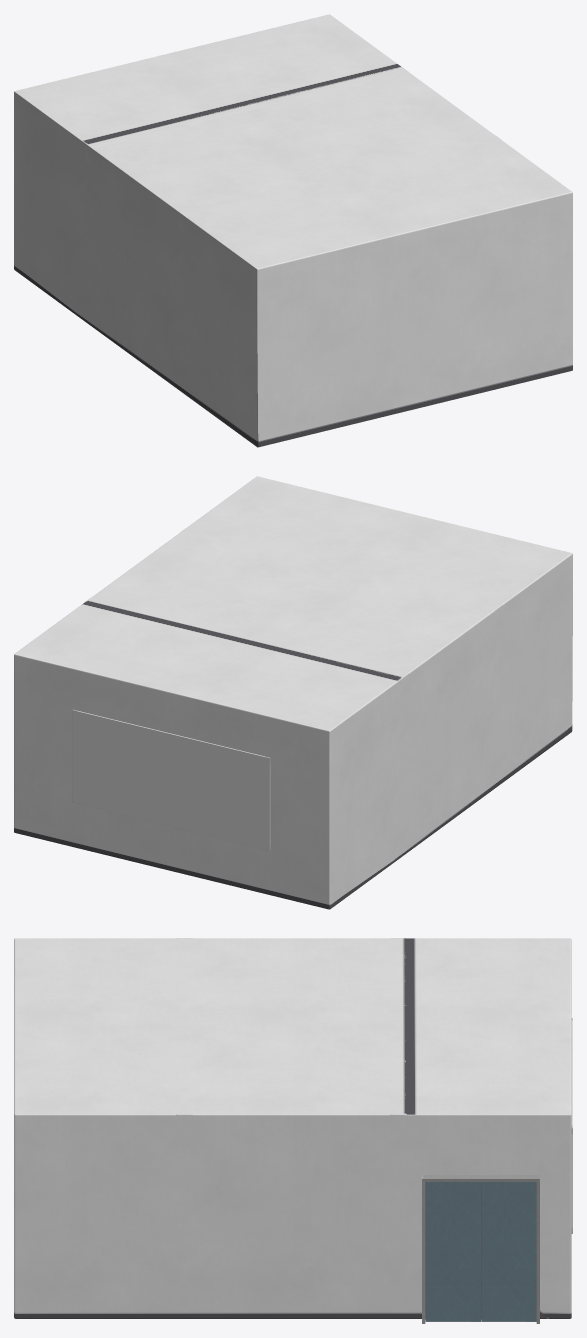
File: RACRoom.fbx
3 renders of one model, top to bottom at view 1: azimuth 30°, elevation 25°; view 2: azimuth 150°, elevation 25°; view 3: azimuth 270°, elevation 25°, orthographic. The views are drawn at different scales.
Visible parts, largest first — view 1: Room, Column, Column1; view 2: Room, Board, Column1, Column; view 3: Room, Door.
Part boxes in pixels (x1,y1,x2,y2): Room: [14, 14, 572, 447]; Column: [85, 66, 408, 165]; Column1: [179, 135, 502, 234]; Room: [14, 476, 572, 909]; Board: [72, 709, 270, 850]; Column1: [179, 528, 502, 626]; Column: [86, 596, 408, 695]; Room: [14, 938, 571, 1319]; Door: [422, 1175, 539, 1323].
Bounding box in the file's own units: 614 × 325 × 802.
Materials: 1 (1 with a texture image).
